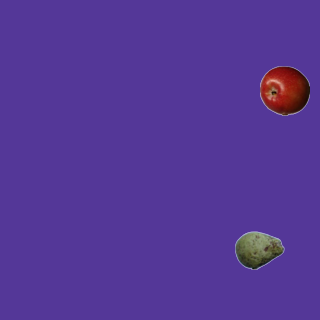Apple Braeburn: (259, 65, 309, 115)
Pear Stone: (234, 225, 284, 275)
